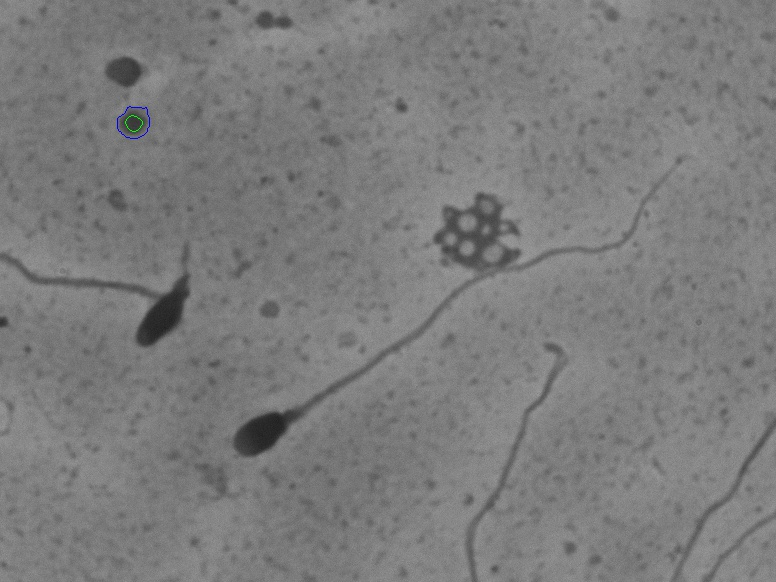Abnormal: (14, 213, 206, 378)
Normal: (223, 139, 705, 467)
